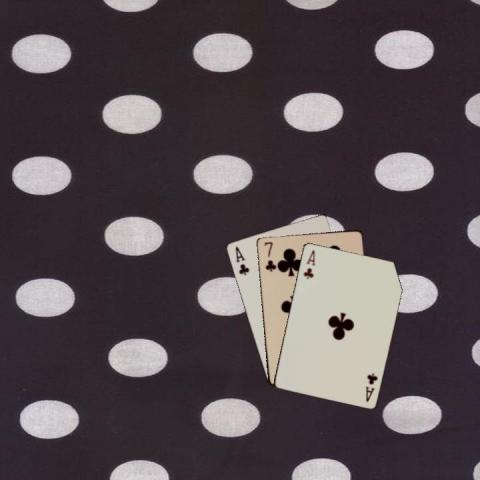7c: (262, 239, 275, 272)
Ac: (232, 243, 250, 277), (300, 247, 316, 280), (362, 370, 378, 403)
